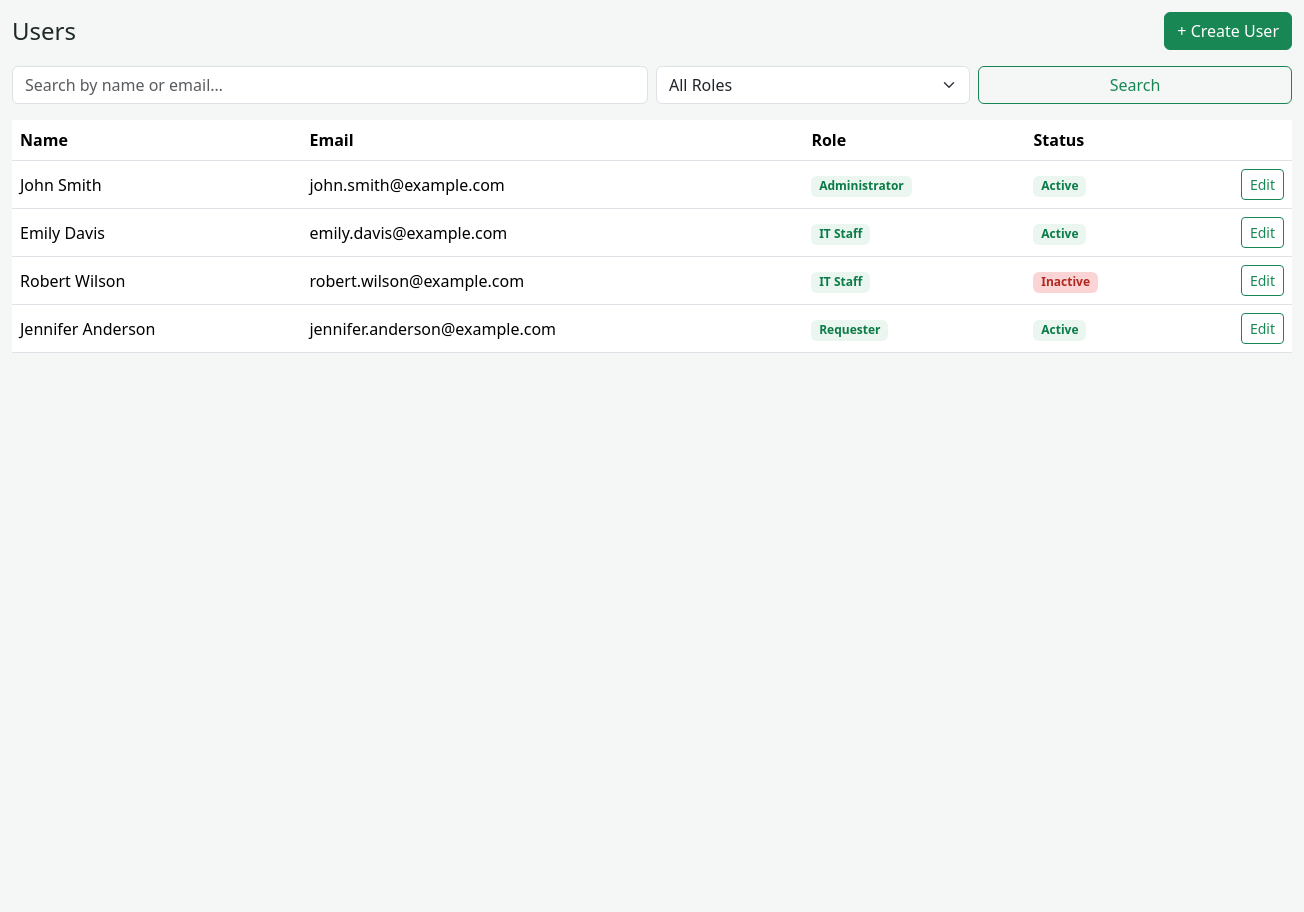
Test: UserManagement edit mode (UI-06, AC-11, BR-16) › prefills the form and saves name, email, role and activation state
This screenshot has width=1304, height=912.
Click the button with aria-label "Edit Emily Davis": point(1262, 232) left=1241, top=217, right=1284, bottom=248
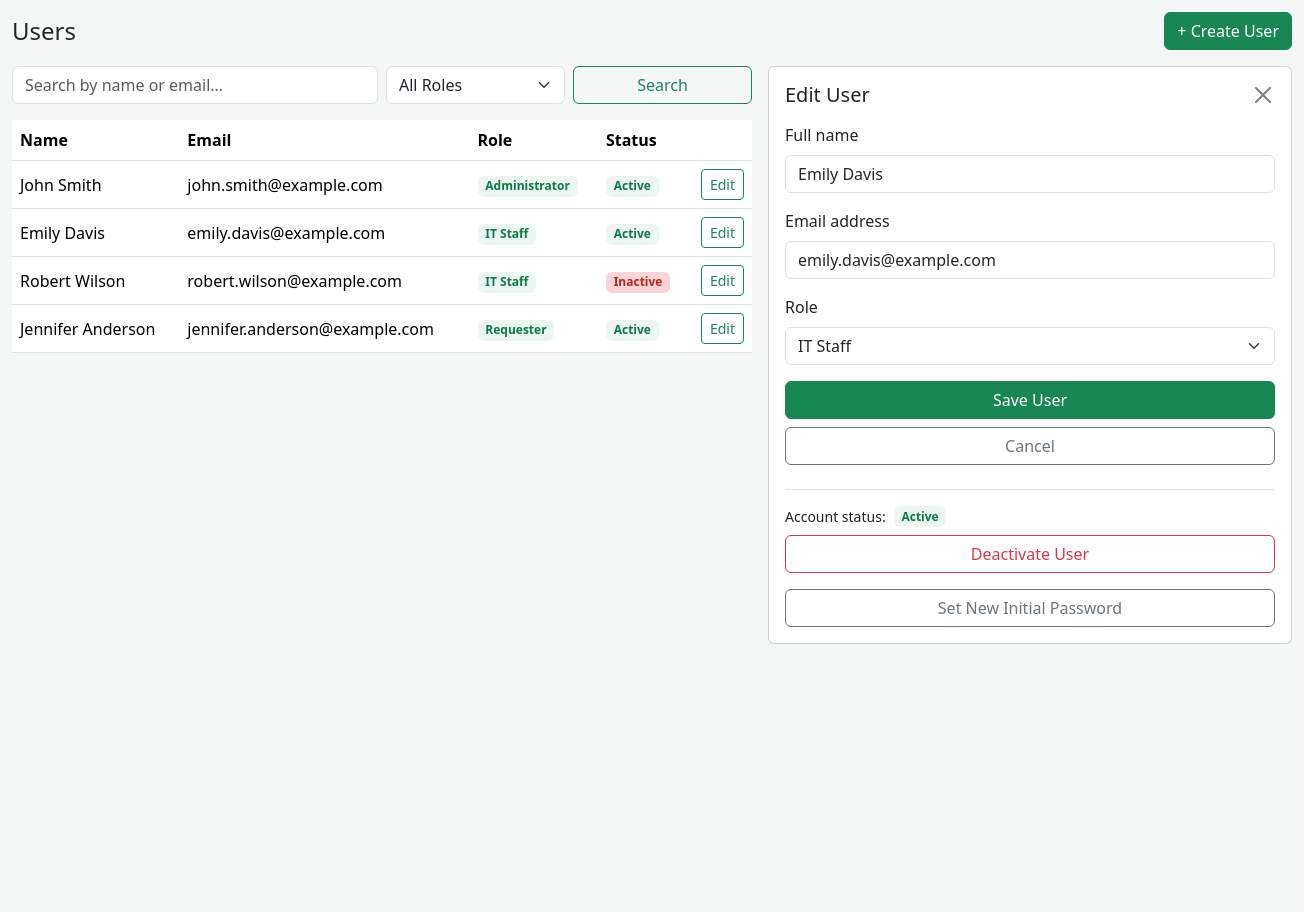
Expected: the field labelled "Full name" holds "Emily Davis"
Replace the text in the field labelled "Full name" with "Emily D.": point(1030, 174) left=785, top=155, right=1275, bottom=193
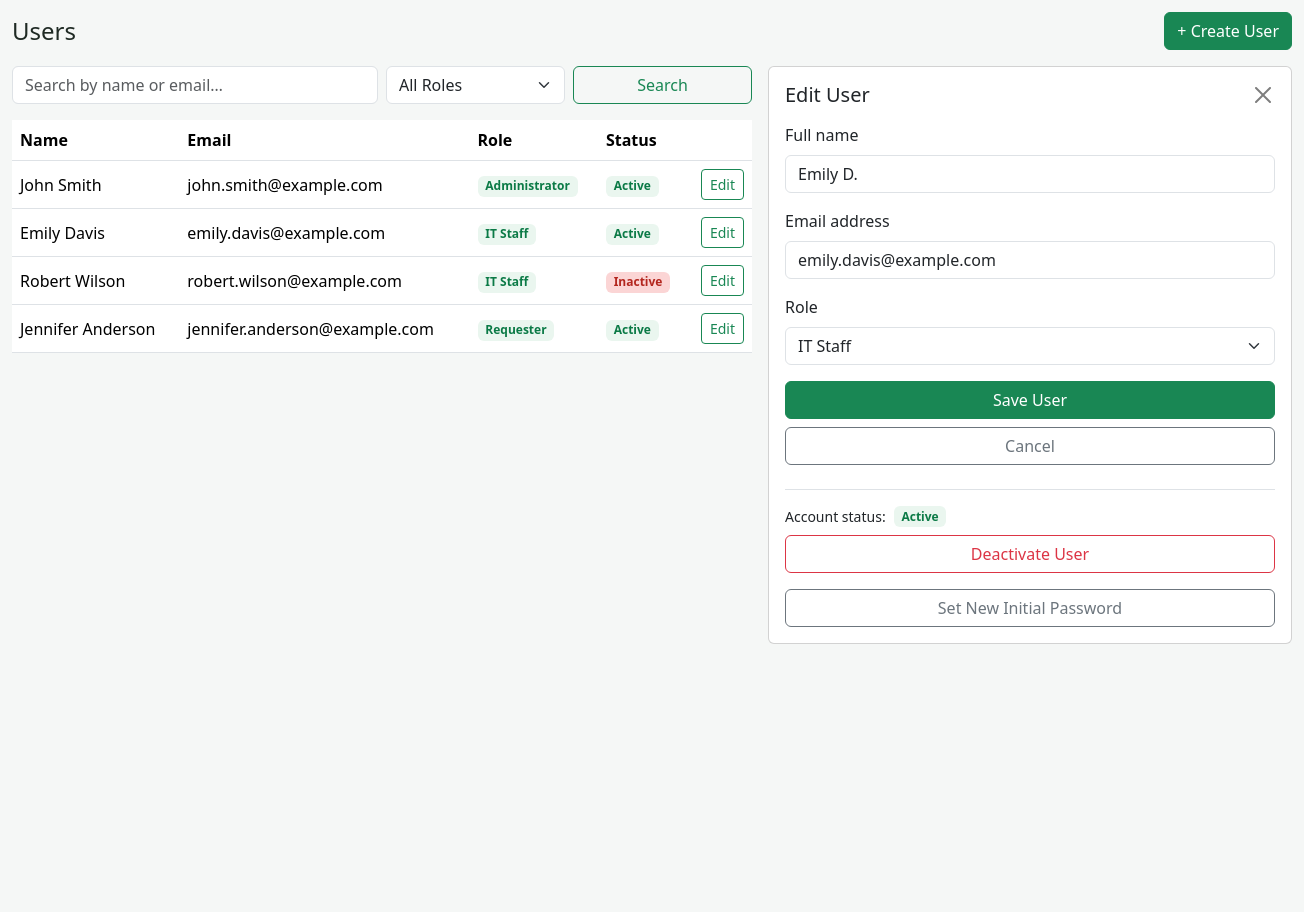
Click the button "Save User": point(1030, 400) left=785, top=381, right=1275, bottom=419
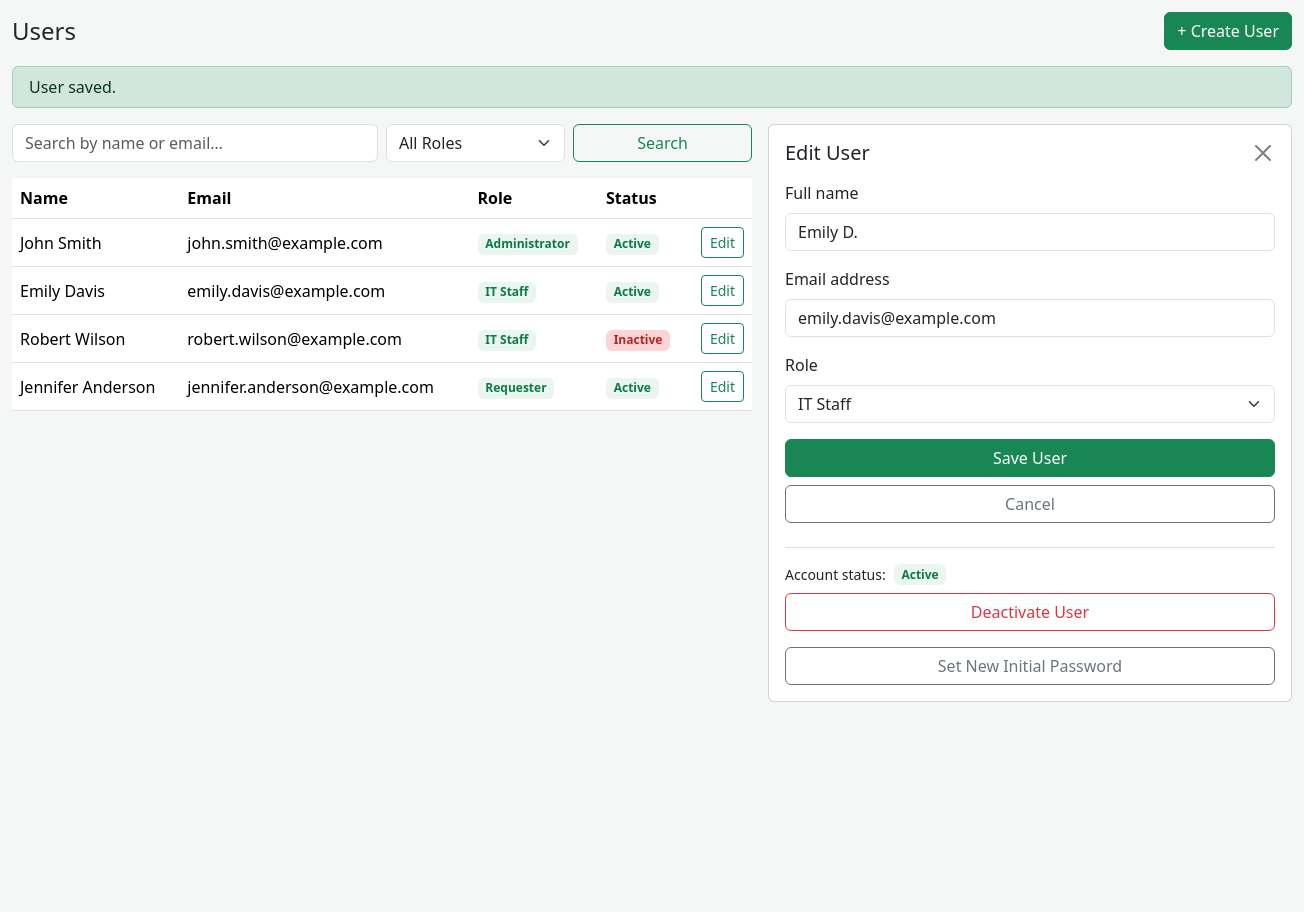
Expected: the text "User saved." is shown, left=12, top=66, right=1292, bottom=108
